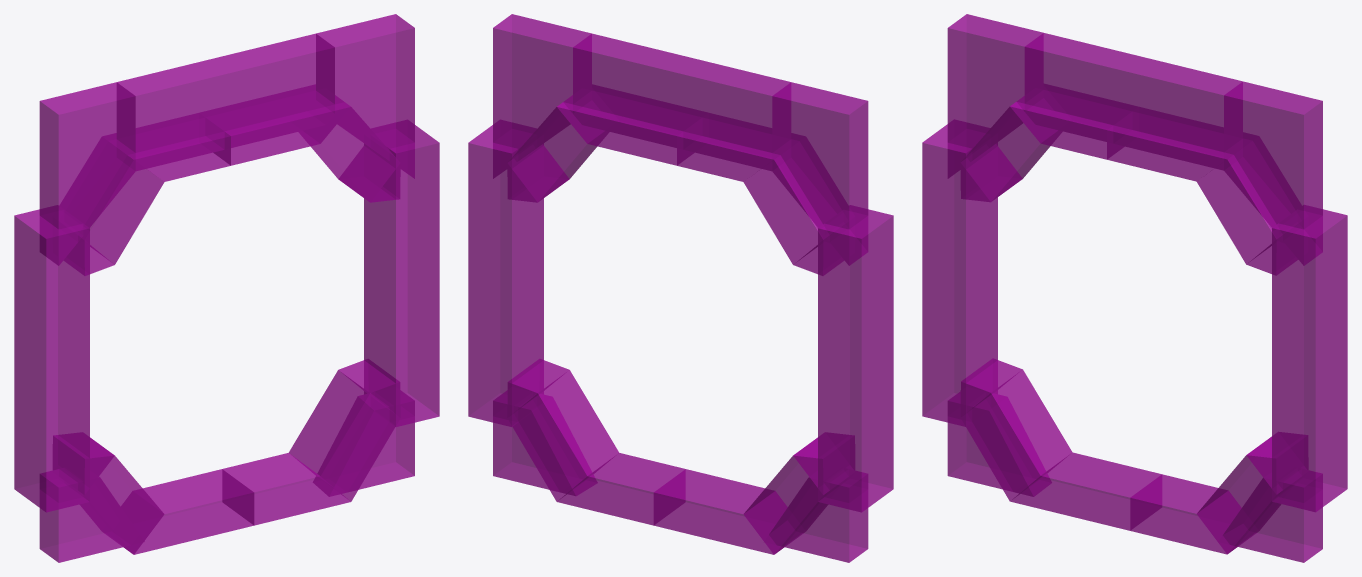
The model's file is SM_Bld_Wall_Door_Double_02_Collision.fbx.
The picture shows the model from 3 angles, left to right: view 1: azimuth 30°, elevation 25°; view 2: azimuth 150°, elevation 25°; view 3: azimuth 330°, elevation 25°; orthographic projection.
Parts seen in each view (by area): view 1: SM_Bld_Wall_Door_Double_02_Collision; view 2: SM_Bld_Wall_Door_Double_02_Collision; view 3: SM_Bld_Wall_Door_Double_02_Collision.
Boxes of the visible parts, x1,y1,x2,y2 form: SM_Bld_Wall_Door_Double_02_Collision: (14,14,439,562); SM_Bld_Wall_Door_Double_02_Collision: (468,14,893,562); SM_Bld_Wall_Door_Double_02_Collision: (922,14,1347,562).
Size of the model in its own units: 280 by 307 by 39.36.
